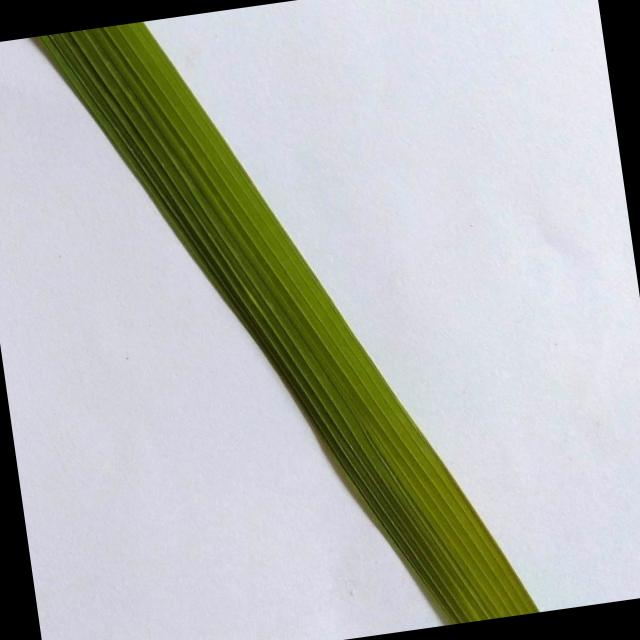Rice_Healthy: (37, 22, 539, 624)
